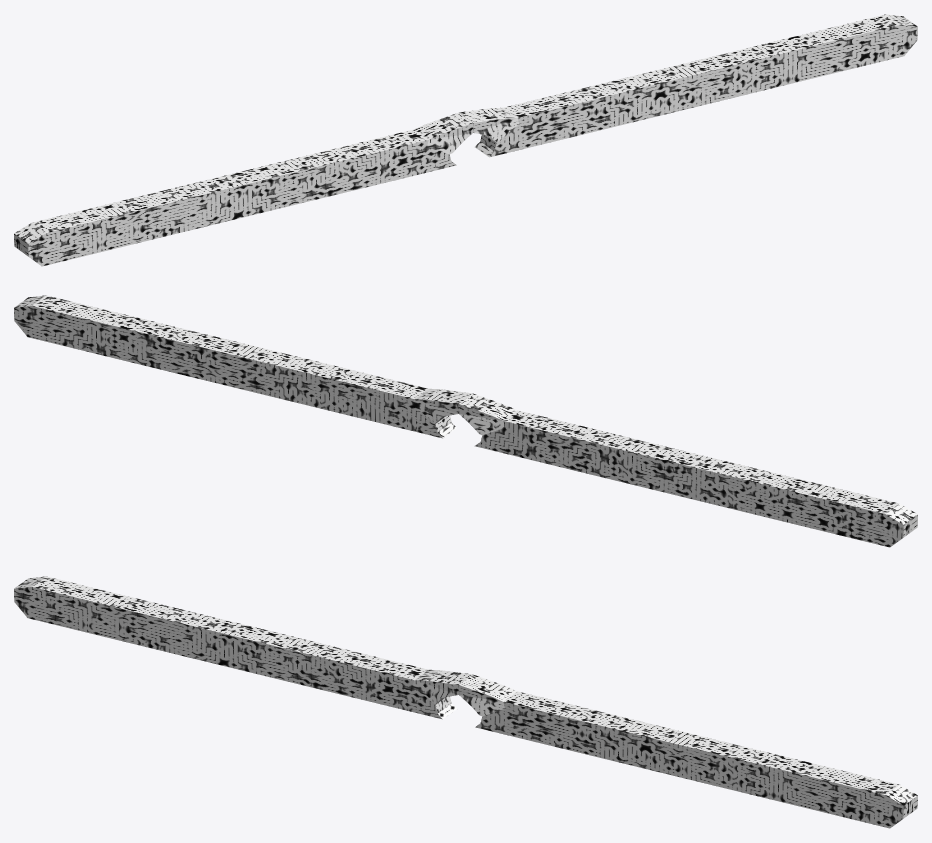
File: obstacle3.obj
3 views of the same model, one above another, from view 1: azimuth 30°, elevation 25°; view 2: azimuth 150°, elevation 25°; view 3: azimuth 330°, elevation 25° (orthographic).
Parts seen in each view (by area): view 1: Cube; view 2: Cube; view 3: Cube.
Boxes of the visible parts, x1=… form: Cube: x1=14, y1=14, x2=917, y2=266; Cube: x1=14, y1=295, x2=917, y2=547; Cube: x1=14, y1=576, x2=917, y2=828.
Bounding box in the file's own units: 71.58 × 2.95 × 2.83.
